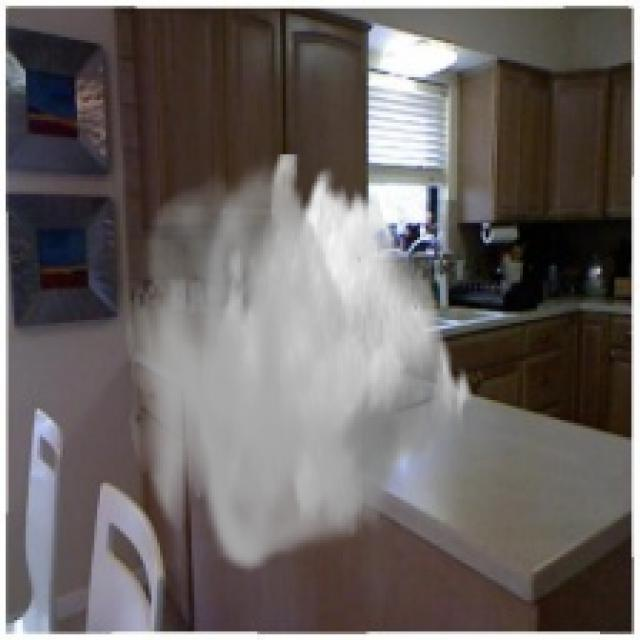Smoke: (126, 154, 474, 577)
